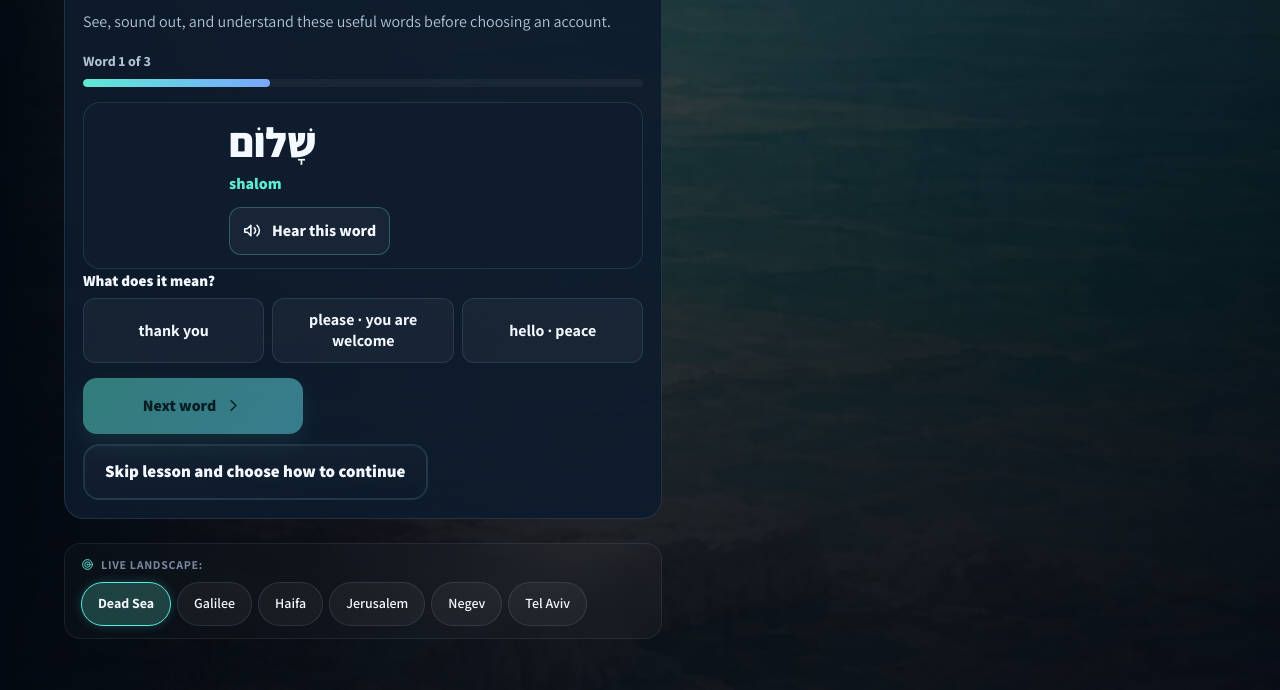
Test case: AuthGate beginner preview › offers the lesson alongside the account, local and demo choices, and creates nothing
(page scrolled)
Expected: the text "שָׁלוֹם" is shown, [229, 116, 316, 168]
Click the button "hello · peace" at (553, 330), box [462, 298, 643, 363]
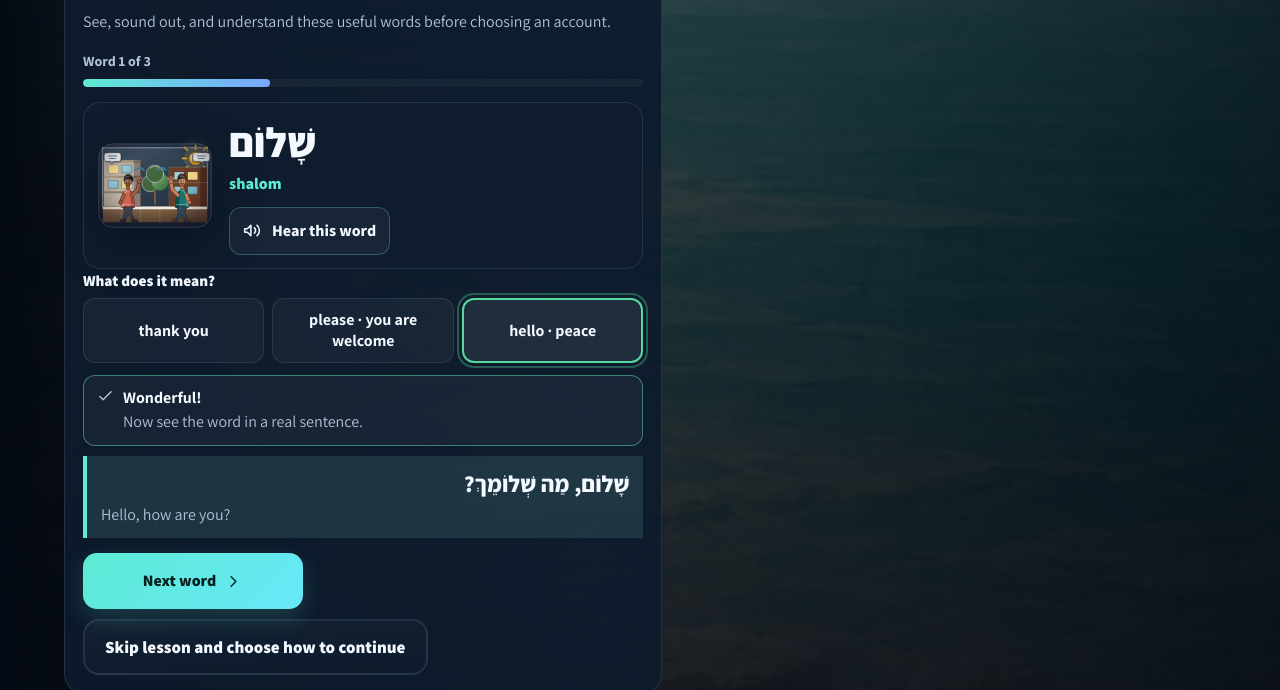
Click the button "Next word" at (193, 581), box [83, 553, 303, 609]
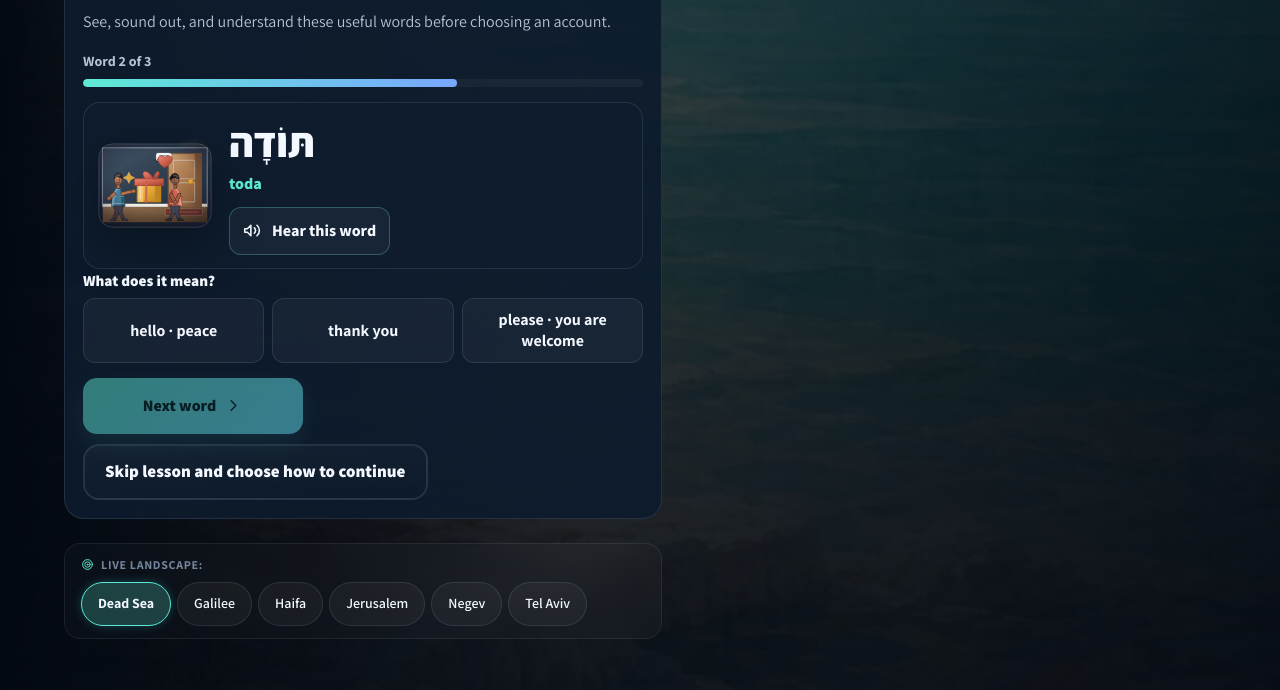
Click the button "thank you" at (363, 330), box [272, 298, 454, 363]
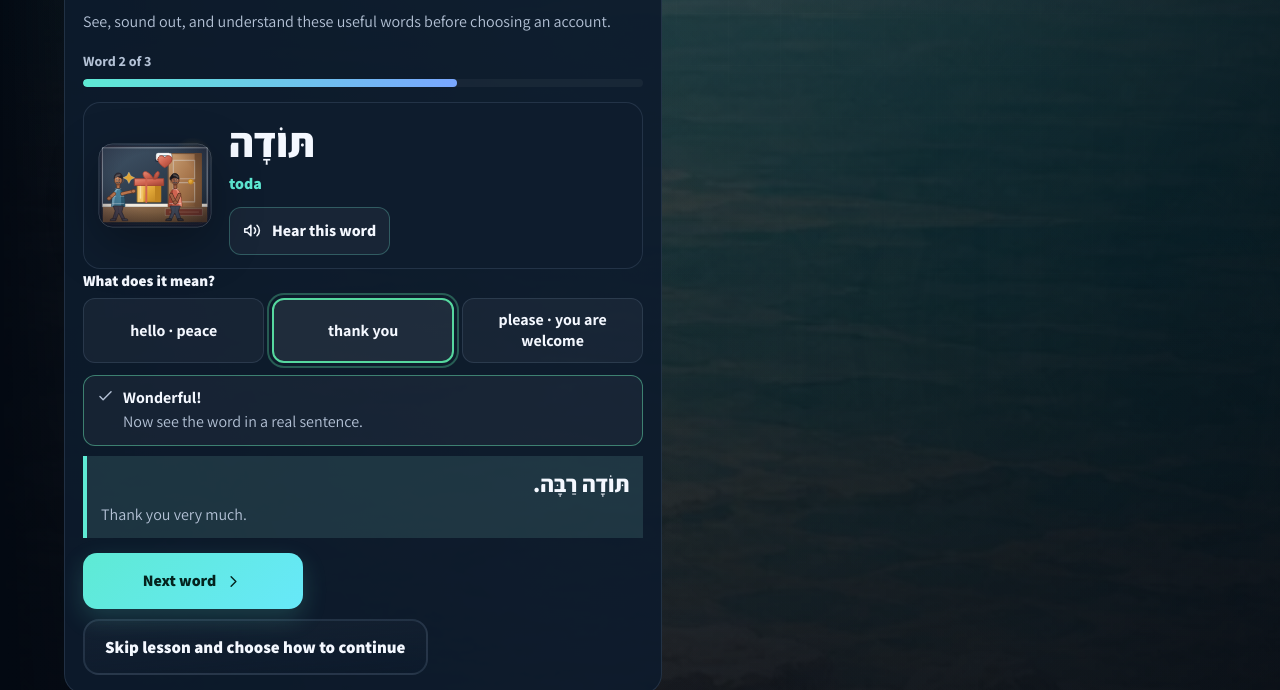
Click the button "Next word" at (193, 581), box [83, 553, 303, 609]
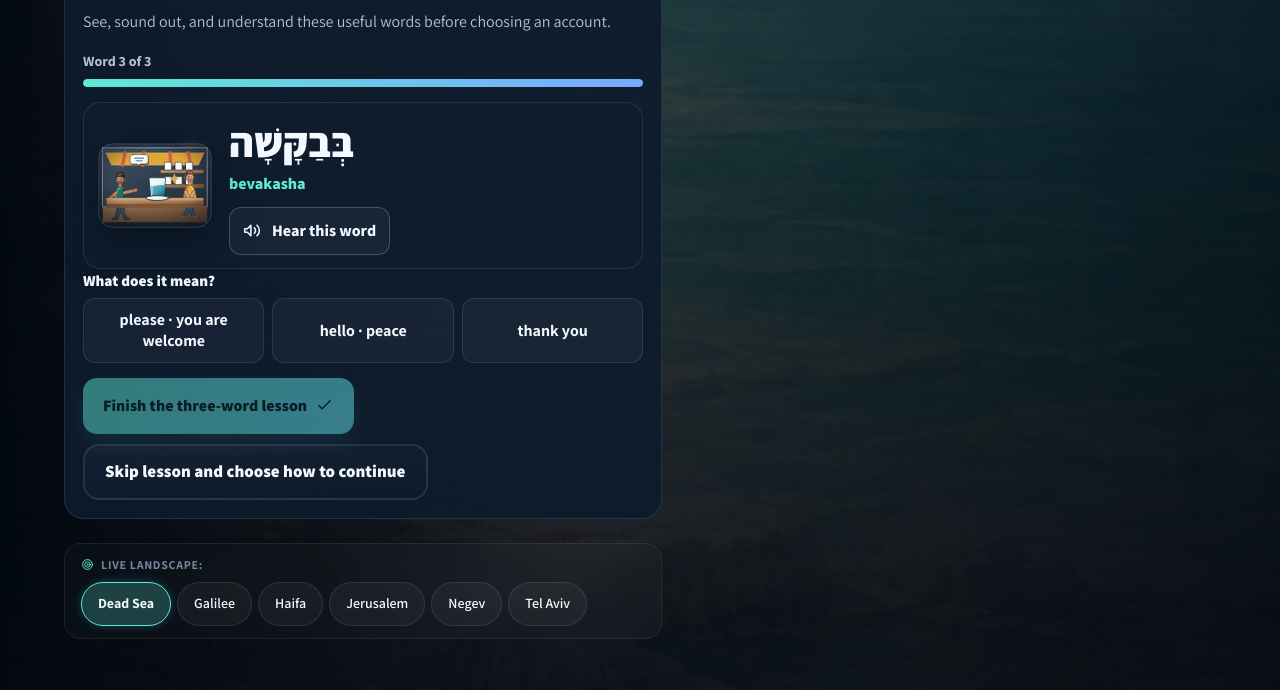
Click the button "please · you are welcome" at (174, 330), box [83, 298, 264, 363]
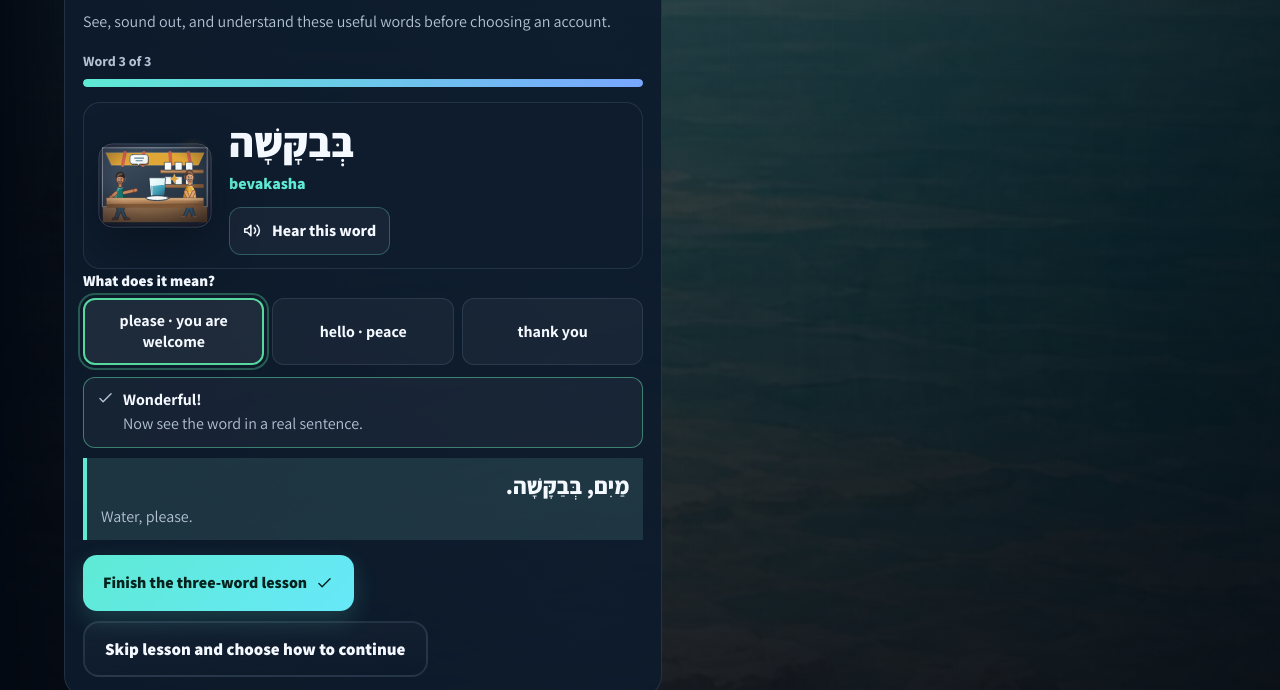
Click the button "Finish the three-word lesson" at (219, 583), box [83, 555, 354, 611]
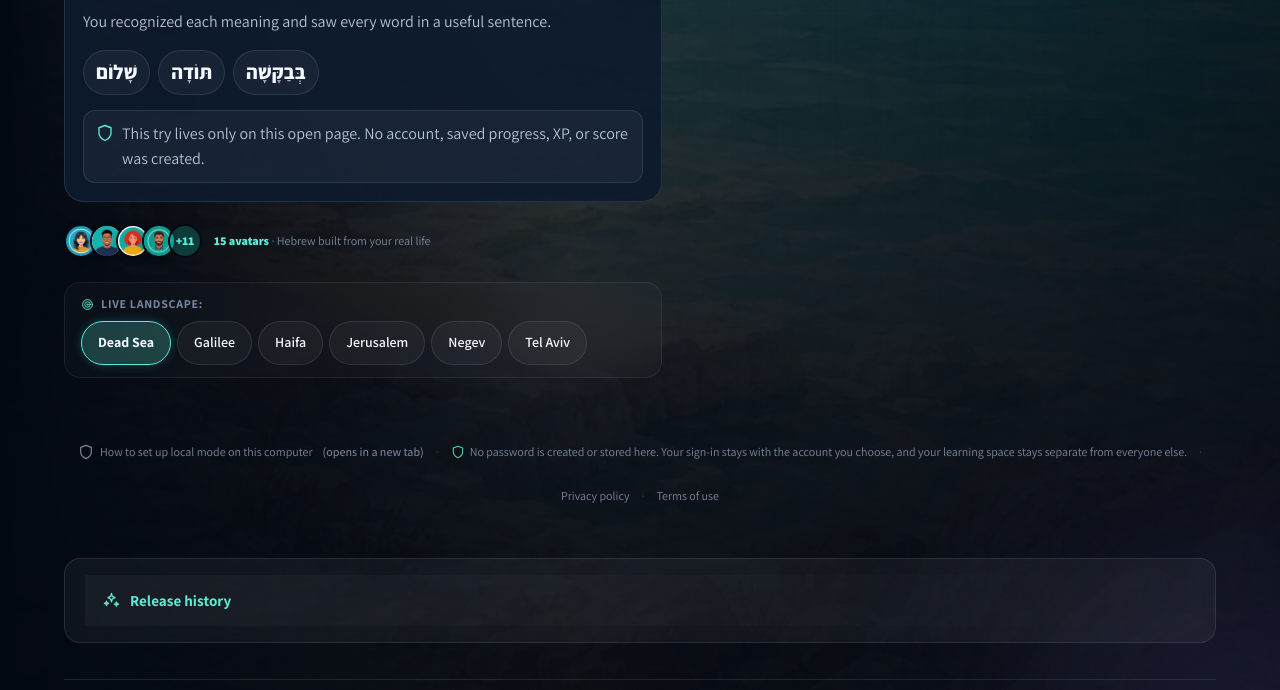
Expected: the link "How to set up local mode on this computer" shows "opens in a new tab", [78, 444, 424, 460]
Expected: the text "No account, saved progress, XP, or score was created" is shown, [122, 123, 628, 169]
